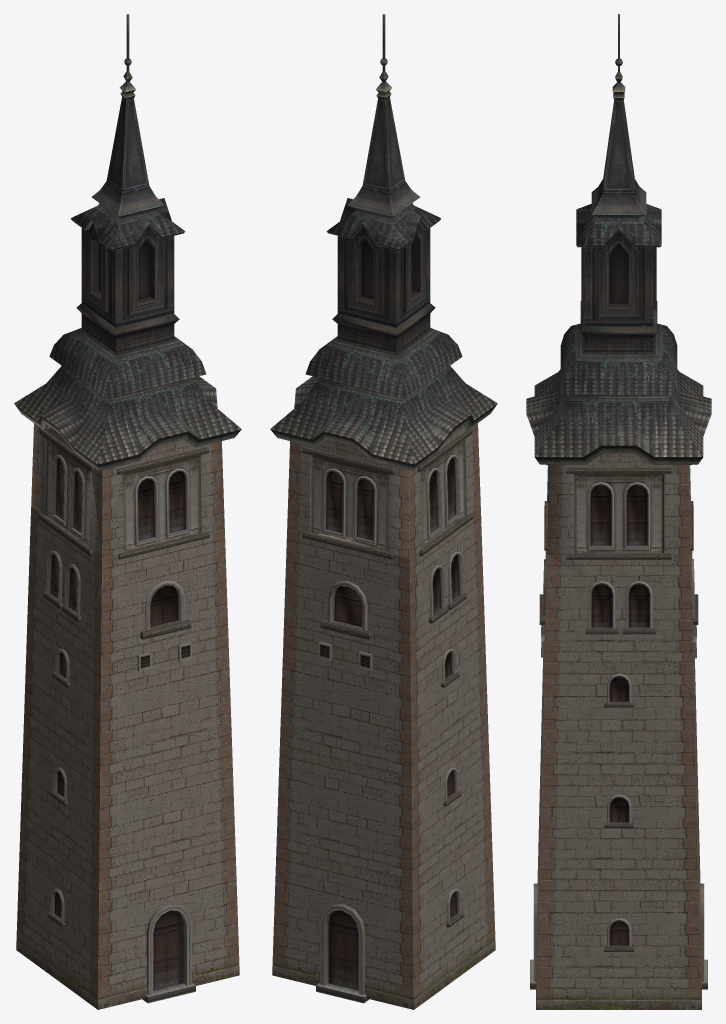
The model's file is clockTower.glb.
3 renders of one model, left to right at view 1: azimuth 30°, elevation 25°; view 2: azimuth 150°, elevation 25°; view 3: azimuth 270°, elevation 25°, orthographic.
Visible parts, largest first — view 1: Tower_01_LOD0_0_12; view 2: Tower_01_LOD0_0_12; view 3: Tower_01_LOD0_0_12.
Part boxes in pixels (x1=…): Tower_01_LOD0_0_12: x1=14, y1=14, x2=241, y2=1009; Tower_01_LOD0_0_12: x1=270, y1=14, x2=497, y2=1009; Tower_01_LOD0_0_12: x1=526, y1=14, x2=711, y2=1009.
Bounding box in the file's own units: 35.79 × 205 × 35.79.
1 material, 1 textured.
